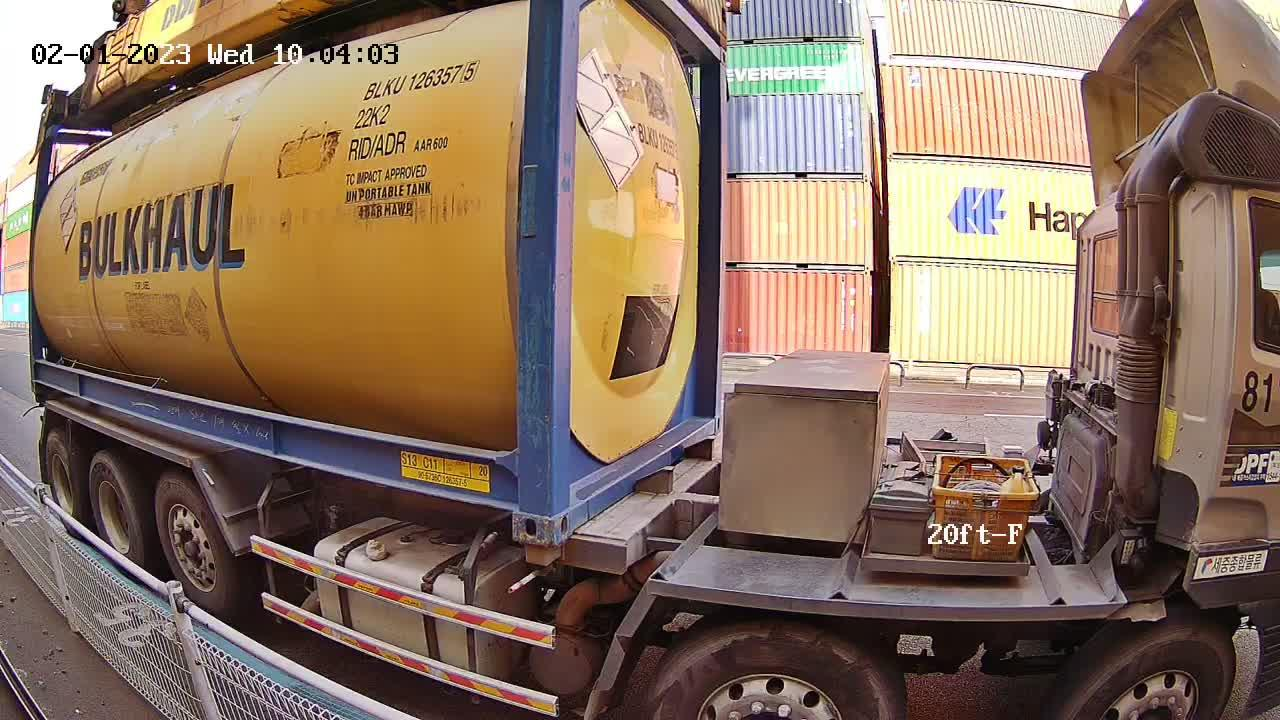Cone: (520, 545, 560, 573)
Hole_L: (551, 465, 591, 547)
Hole_R: (484, 472, 551, 546), (696, 397, 723, 440)
Tire: (155, 477, 234, 615), (88, 453, 141, 581), (44, 432, 80, 529)
